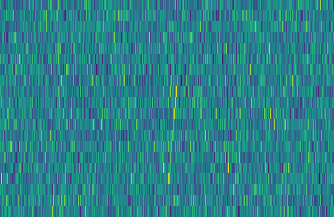signal: (161, 0, 188, 217)
